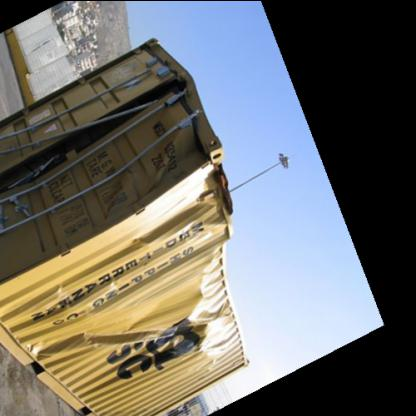Damage: (6, 80, 202, 193), (34, 266, 240, 368)
